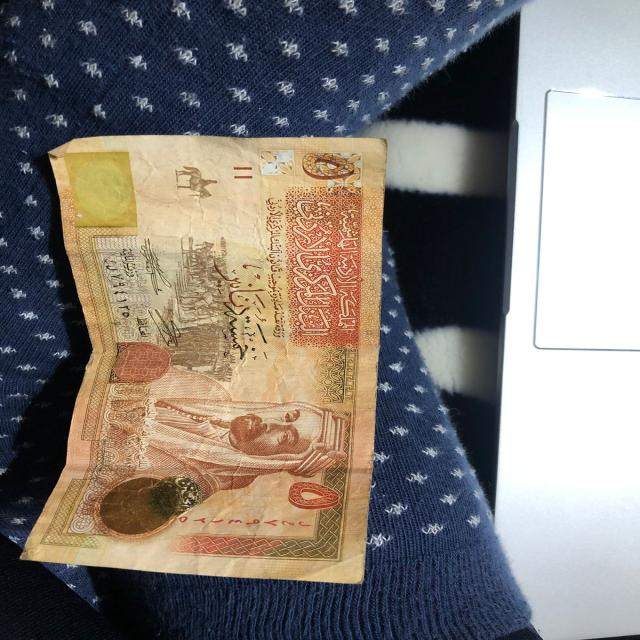5-dinar: (20, 135, 390, 590)
